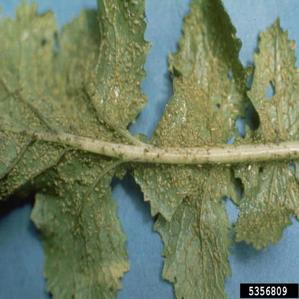Green peach aphid: (0, 0, 299, 283)
